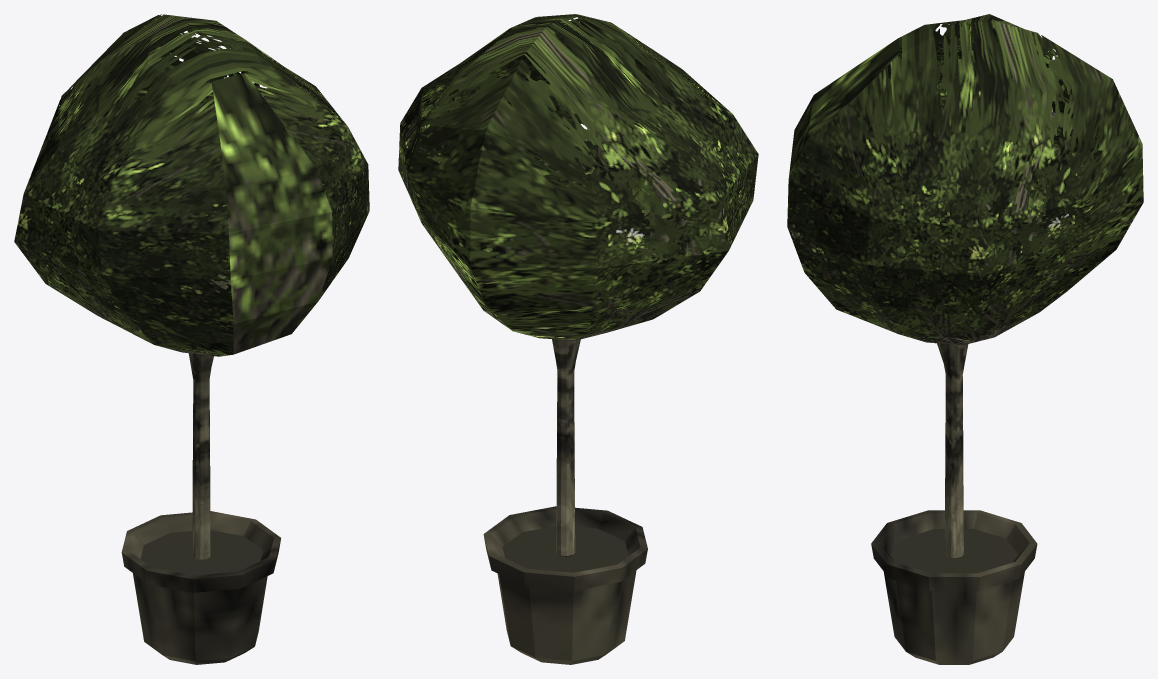
The model's file is PotTree.fbx.
3 views of the same model, side by side, from view 1: azimuth 30°, elevation 25°; view 2: azimuth 150°, elevation 25°; view 3: azimuth 270°, elevation 25° (orthographic). The views are drawn at different scales.
Parts seen in each view (by area): view 1: POtTree; view 2: POtTree; view 3: POtTree.
Part boxes in pixels (left/top/right/bottom): POtTree: left=14, top=14, right=369, bottom=664; POtTree: left=398, top=14, right=758, bottom=664; POtTree: left=787, top=14, right=1143, bottom=664.
Bounding box in the file's own units: 4.17 × 7.61 × 3.94.
